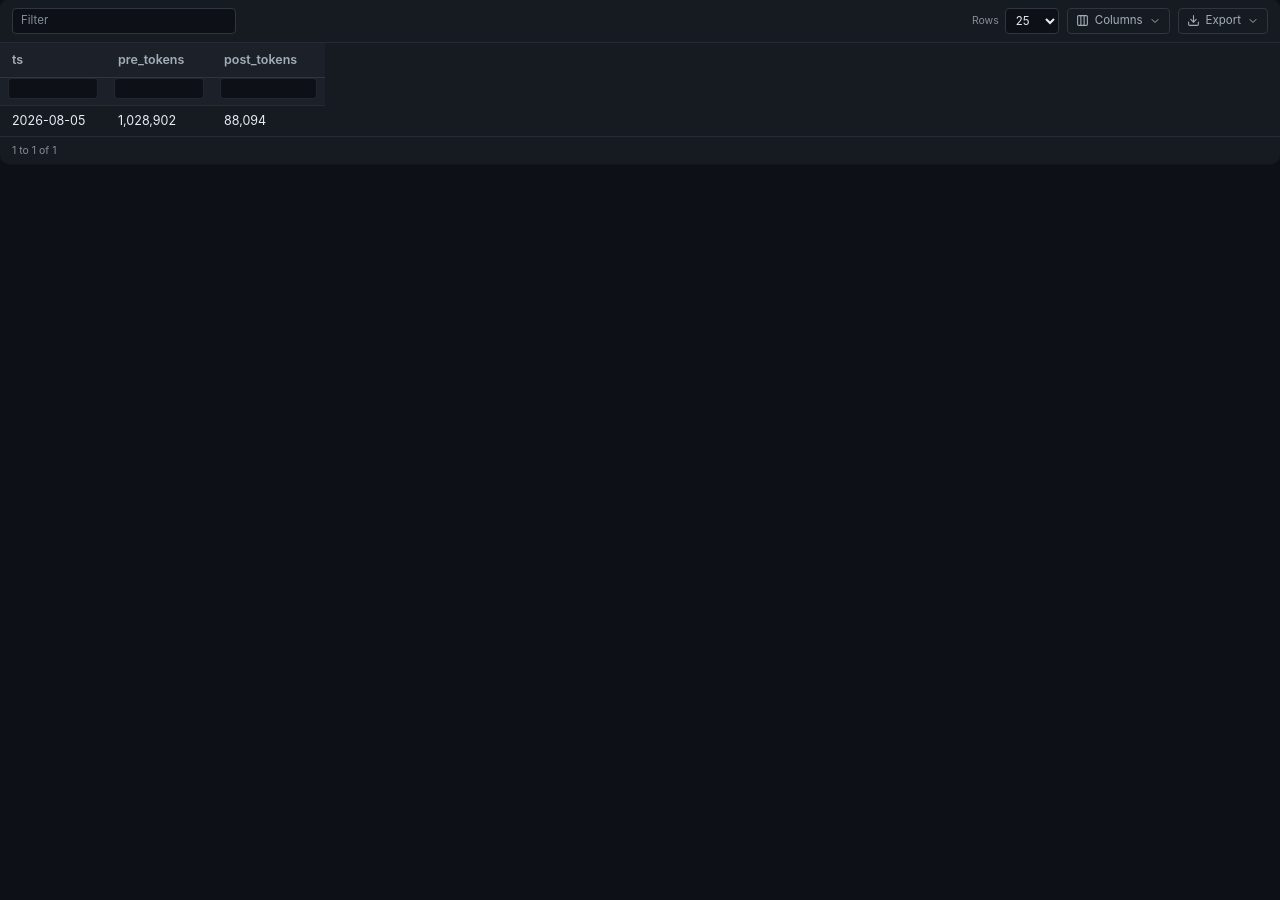
a compaction row › says so when the store never harvested a summary, instead of showing nothing
The image size is (1280, 900).
Click the text "2026-08-05" at (162, 120), box [0, 105, 325, 136]
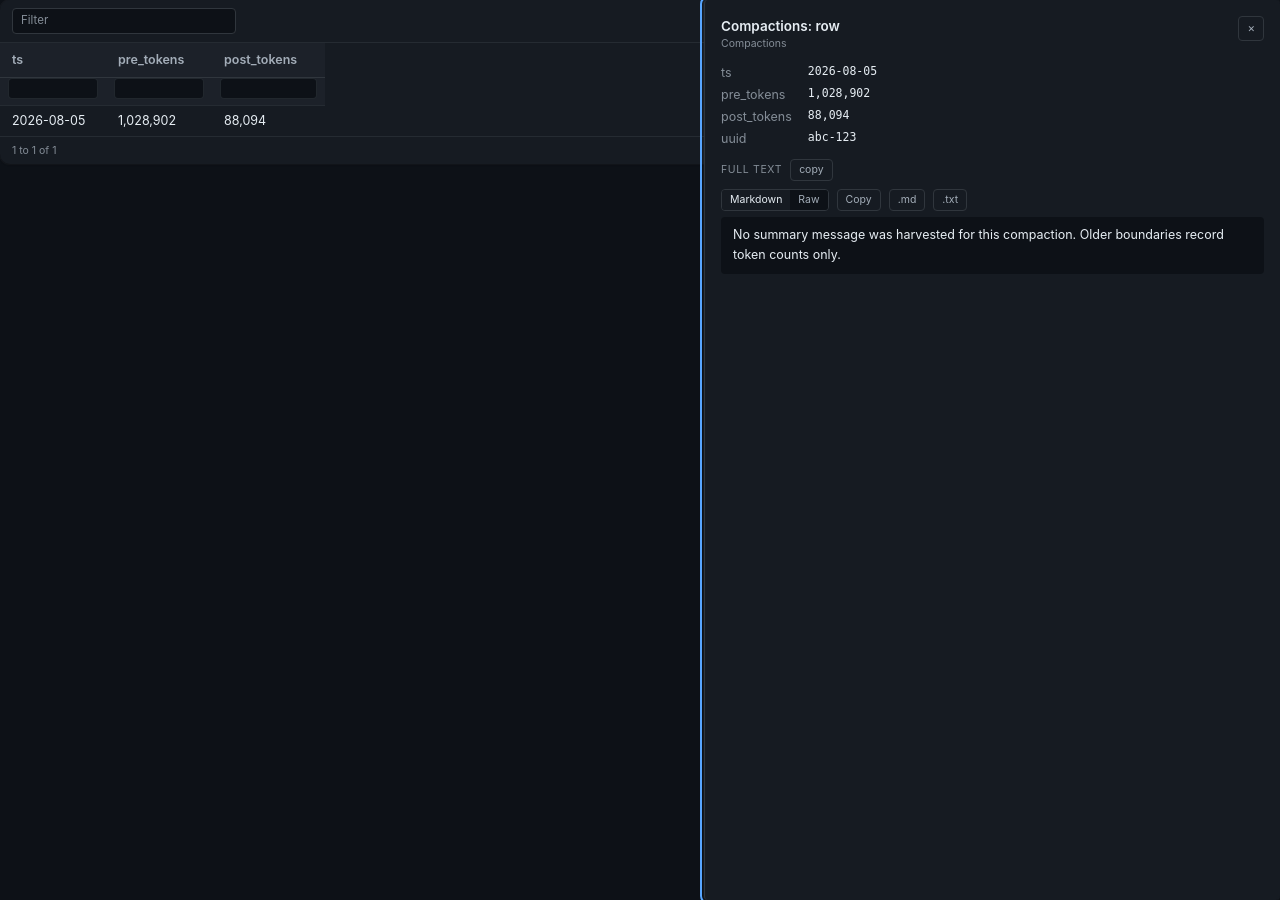
Check: the text "No summary message was harvested" is shown, box [733, 227, 1224, 262]
